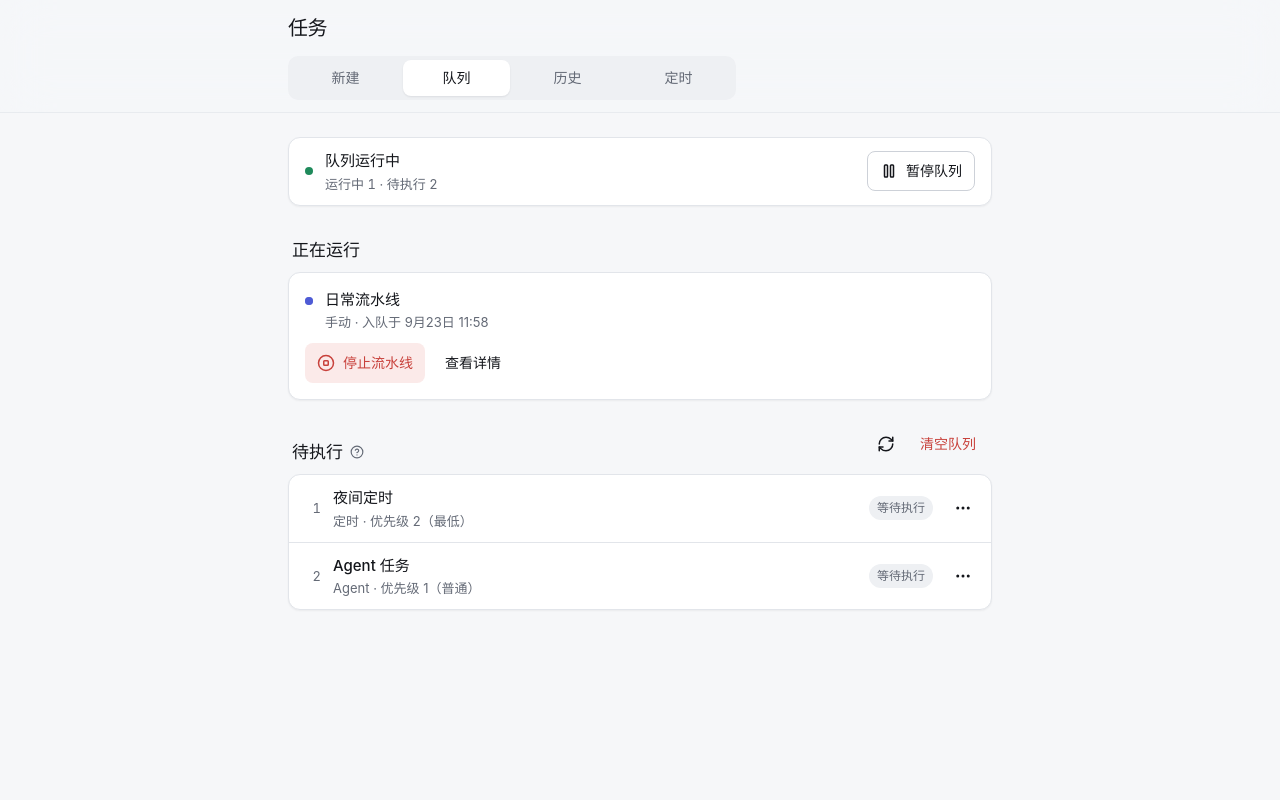
Test: task queue › clears every pending pipeline after a confirmation that states the count (T12)
Click the button "清空队列" at (948, 444), box [908,424,988,464]
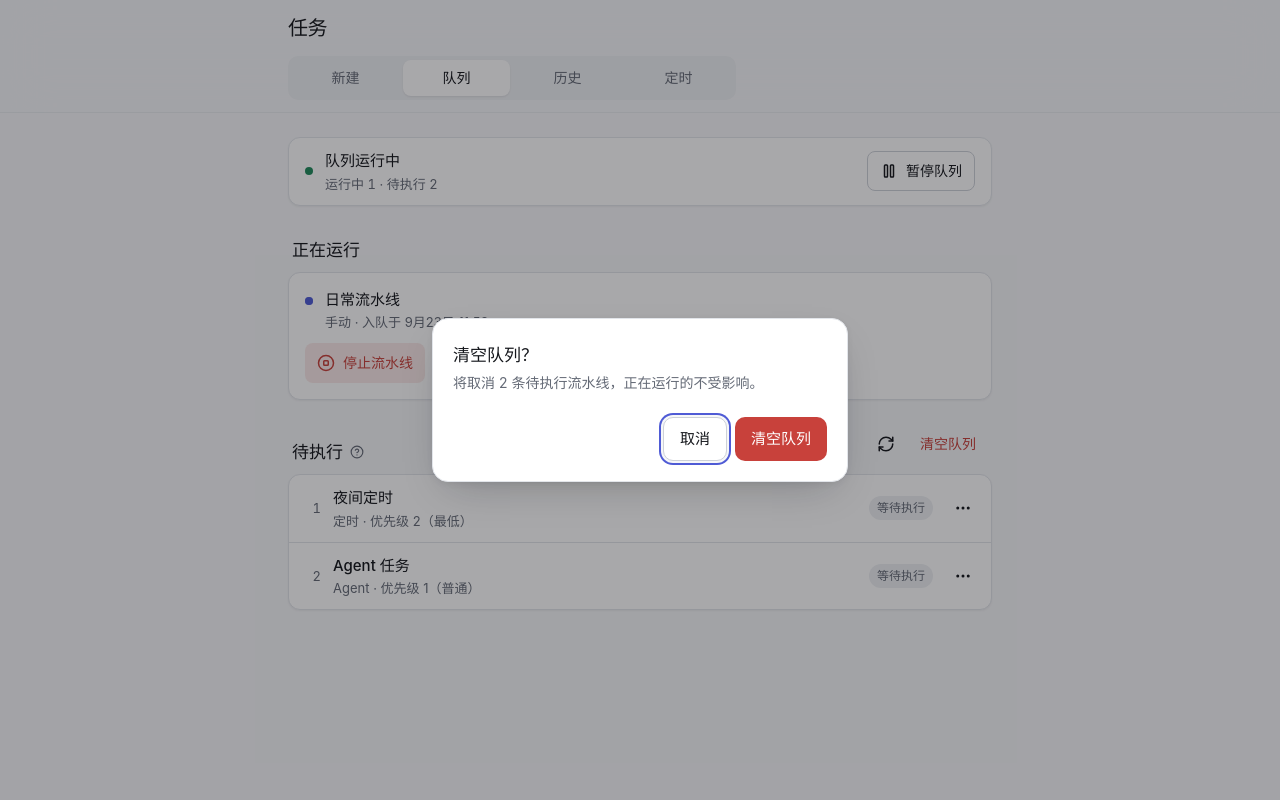
Now the dialog "清空队列？" shows "2 条", box [432,318,848,482]
Click the button "清空队列" at (781, 439), box [735,417,827,461]
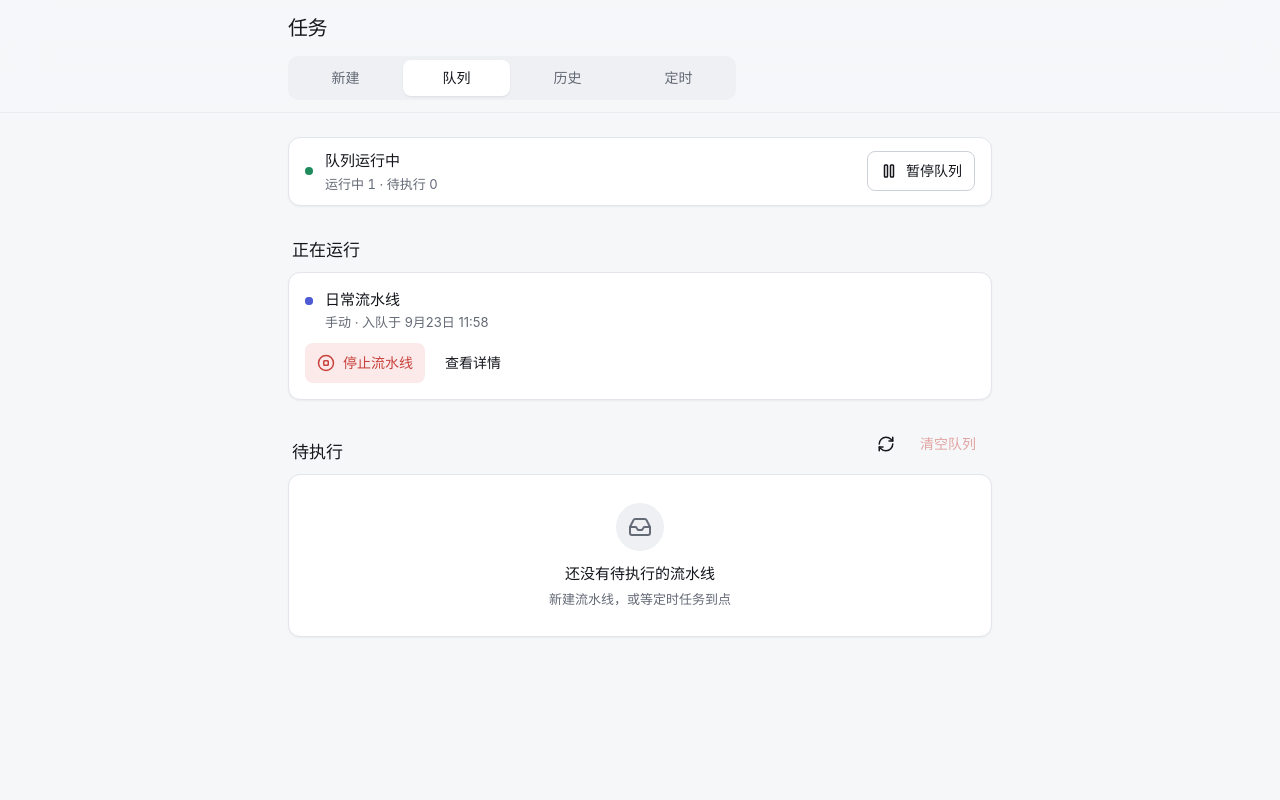
Now the text "还没有待执行的流水线" is shown, box [565,564,715,583]
Now the button "清空队列" is disabled, box [908,424,988,464]
